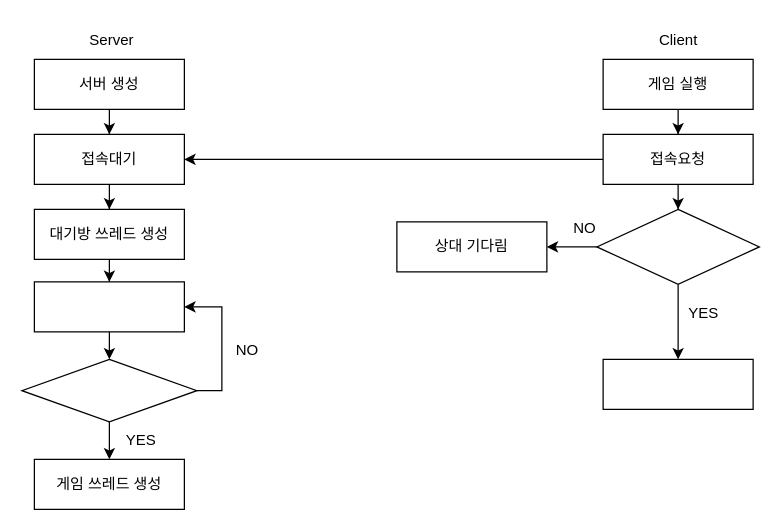
Some shapes in this 781 by 531 pixel diagram are drawn without their labels. Each missing label, with the centre of its shape:
"다른 플레이어 대기" goes at pixel 108 306.
"상대가 충분히 모였나?" goes at pixel 677 246.
"접속이 4명인가?" goes at pixel 109 390.
